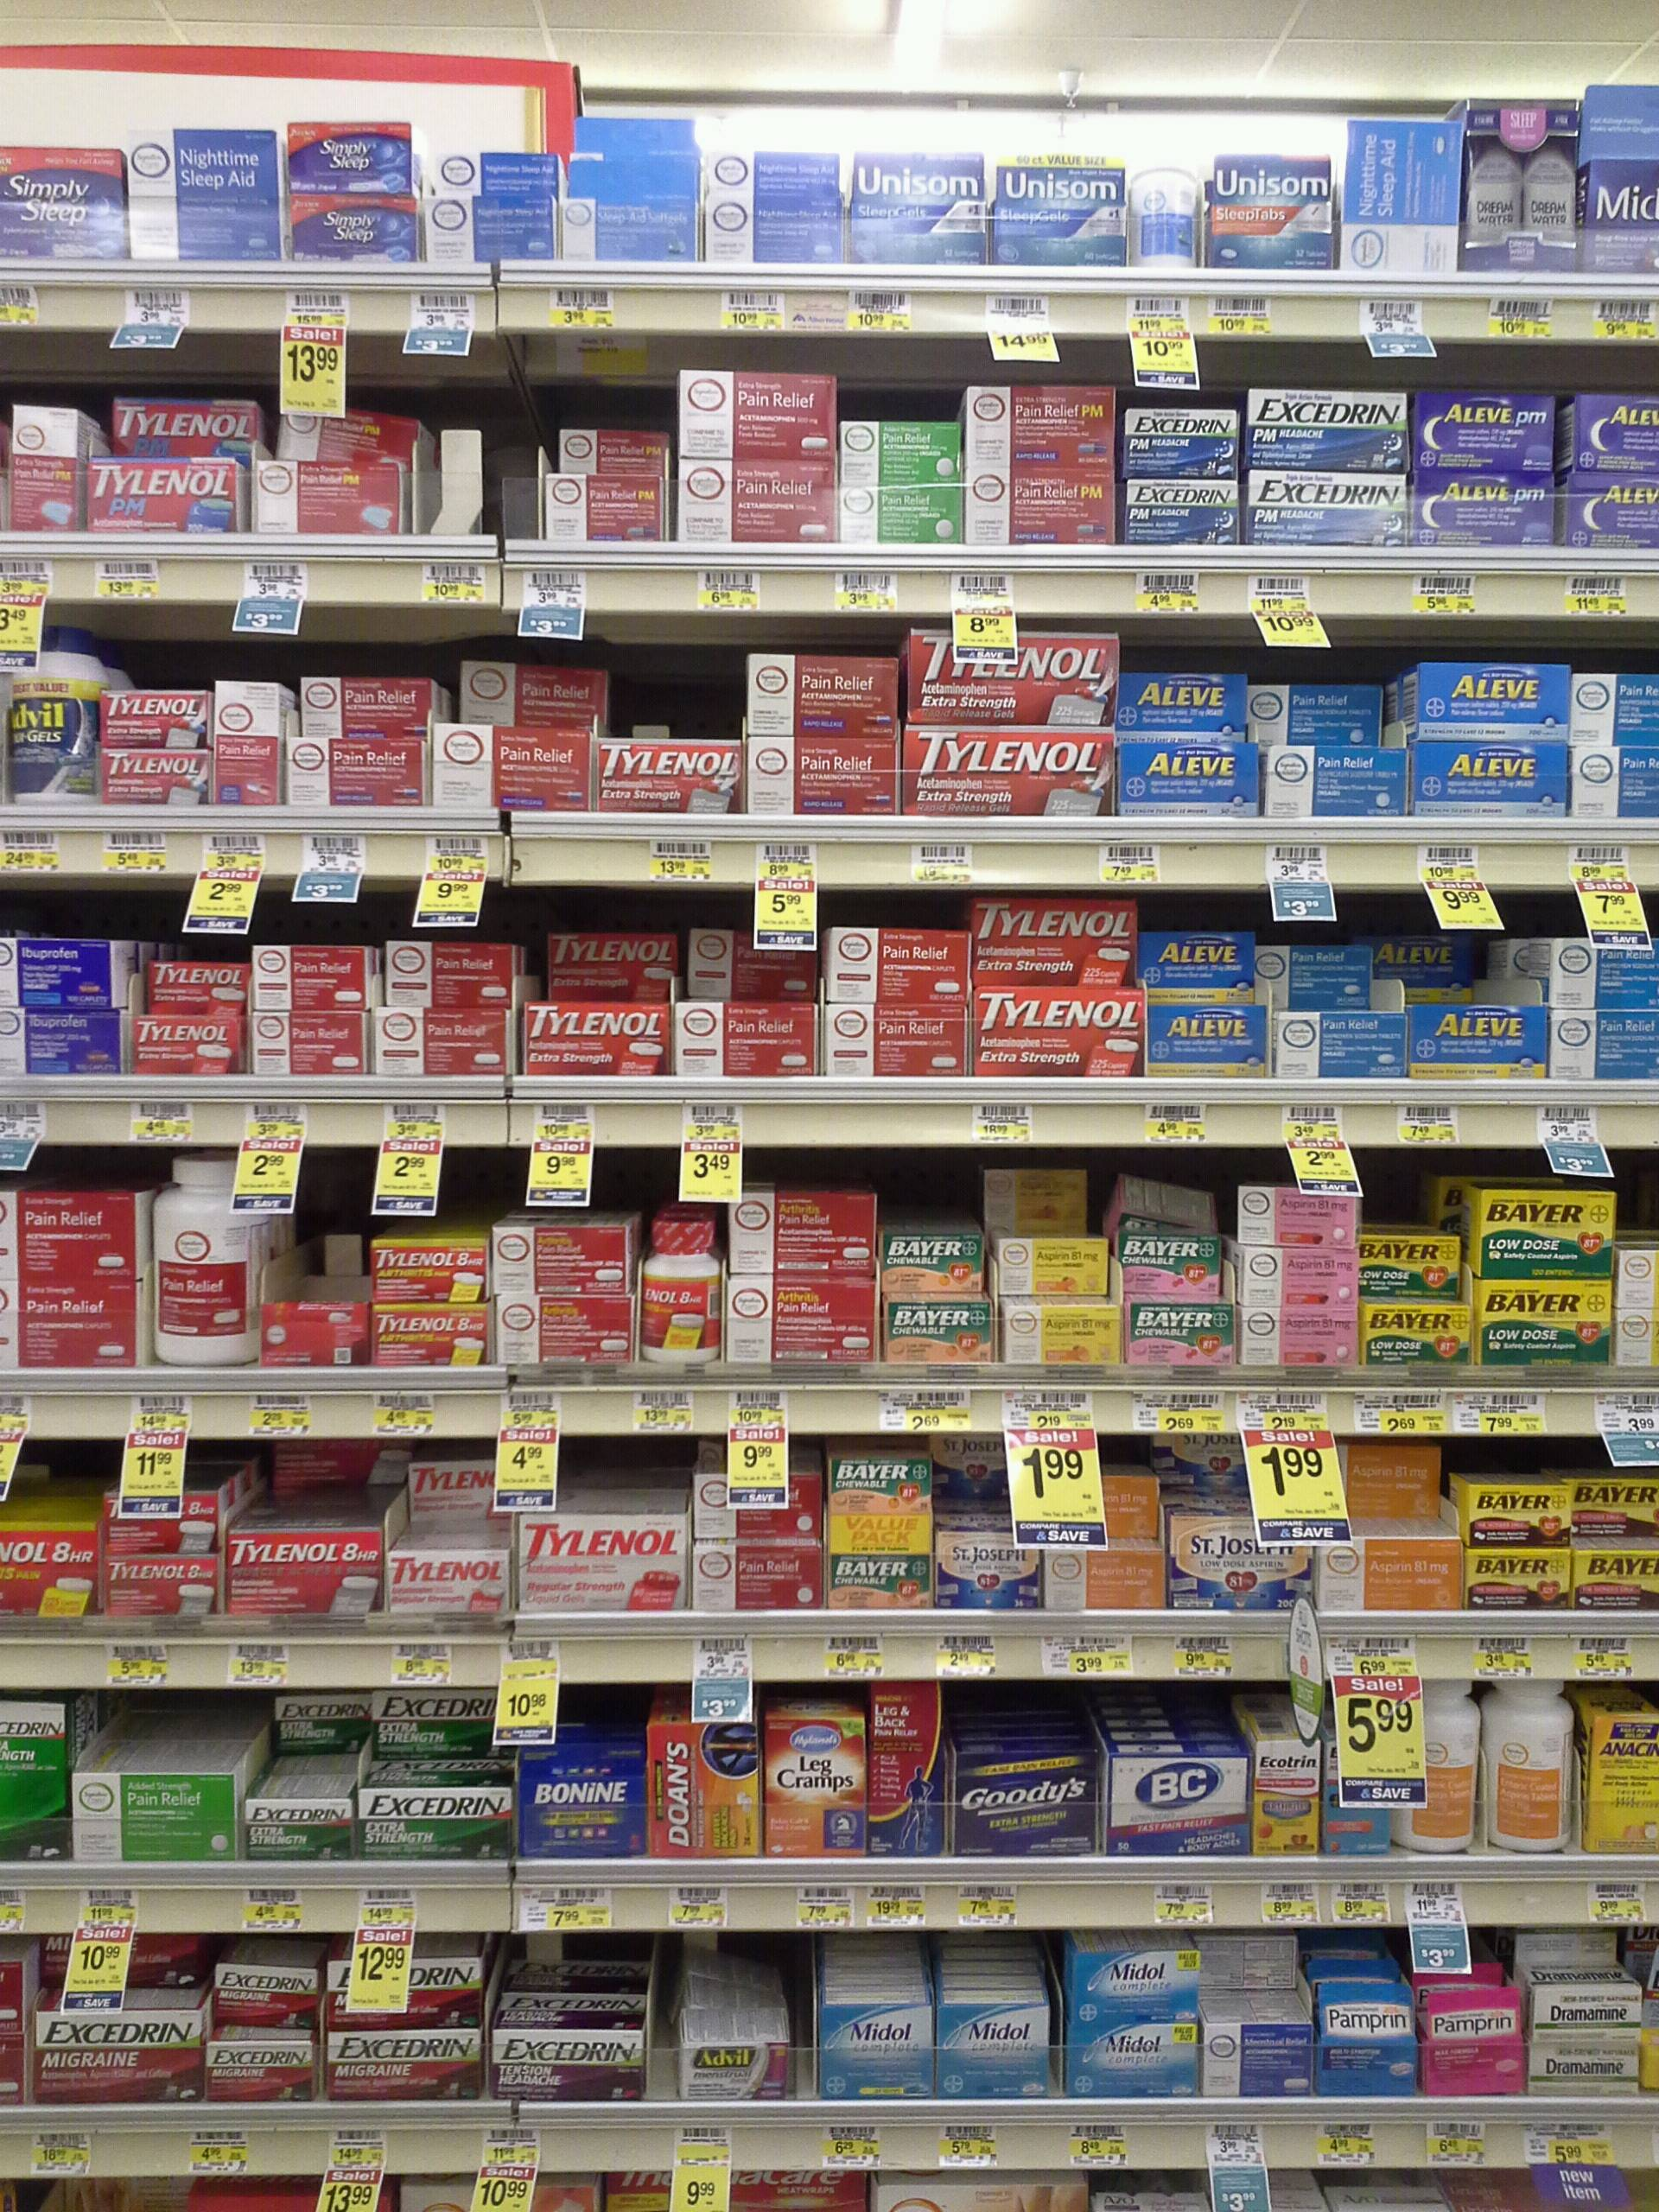product: (148, 1151, 254, 1366), (1459, 99, 1582, 275), (904, 629, 1115, 728), (129, 124, 279, 260), (71, 1740, 242, 1857), (1344, 118, 1457, 273), (904, 732, 1119, 813), (647, 1705, 760, 1857), (1103, 1743, 1251, 1855), (40, 2000, 202, 2101), (497, 1994, 648, 2102), (7, 629, 98, 801), (762, 1709, 868, 1855), (1485, 1677, 1572, 1855), (955, 1743, 1098, 1851), (355, 1757, 511, 1855), (1392, 1679, 1481, 1848), (974, 989, 1145, 1076), (519, 1517, 687, 1606), (1582, 82, 1659, 275), (223, 1524, 383, 1616), (993, 152, 1124, 265), (519, 1742, 647, 1855), (850, 153, 988, 258), (1169, 1508, 1312, 1608), (0, 148, 127, 260), (434, 726, 598, 812), (676, 456, 838, 542), (976, 902, 1138, 988), (1244, 388, 1408, 472), (676, 371, 836, 456), (1209, 155, 1333, 265), (326, 1937, 476, 2027), (1466, 1188, 1615, 1277), (725, 1282, 875, 1371), (563, 164, 695, 263), (868, 1683, 943, 1857), (732, 1191, 875, 1282), (932, 1993, 1053, 2099), (965, 387, 1114, 472), (1575, 1705, 1659, 1855), (819, 1989, 934, 2097), (1521, 1937, 1643, 2038), (748, 651, 897, 733), (0, 1195, 145, 1278), (0, 1284, 143, 1367), (85, 460, 244, 535), (1422, 1984, 1527, 2097), (1415, 662, 1568, 738), (253, 462, 408, 536), (1316, 1982, 1415, 2099), (1408, 469, 1558, 545), (1417, 742, 1570, 817), (819, 1005, 972, 1080), (0, 1494, 94, 1616), (751, 737, 897, 815), (0, 1698, 71, 1858), (1251, 472, 1408, 543), (645, 1217, 721, 1362), (674, 1001, 819, 1078), (1478, 1282, 1615, 1362), (965, 472, 1115, 545), (1413, 390, 1553, 469), (823, 928, 967, 1003), (681, 2008, 795, 2102), (1122, 737, 1258, 815), (1412, 1007, 1549, 1082), (1065, 2020, 1199, 2097), (1317, 1540, 1460, 1611), (599, 740, 746, 810), (329, 2029, 474, 2099), (525, 1001, 673, 1069), (1066, 1944, 1197, 2020), (491, 1224, 631, 1294), (462, 660, 608, 726), (829, 1515, 936, 1606), (366, 1007, 511, 1073), (366, 1691, 514, 1756), (1319, 1446, 1443, 1522), (690, 928, 819, 1001), (108, 397, 253, 462), (0, 937, 132, 1007), (10, 402, 84, 528), (1204, 2013, 1314, 2097), (281, 740, 425, 803), (281, 124, 413, 192), (1255, 1716, 1321, 1851), (701, 197, 843, 260), (1267, 749, 1410, 812), (281, 193, 418, 258), (1148, 1007, 1272, 1078), (692, 1540, 824, 1606), (497, 1298, 640, 1359), (275, 402, 422, 462), (37, 1937, 202, 1989), (213, 1939, 312, 2026), (382, 942, 516, 1007), (0, 1010, 129, 1076), (1326, 1716, 1389, 1851), (366, 1238, 493, 1305), (549, 934, 676, 1000), (939, 1529, 1044, 1609), (1276, 1014, 1406, 1076), (249, 948, 380, 1010), (1246, 685, 1384, 744), (249, 1777, 357, 1851), (1147, 930, 1255, 1005), (1236, 1184, 1358, 1251), (293, 678, 429, 737), (214, 685, 282, 803), (692, 1472, 819, 1534), (423, 197, 554, 258), (200, 2029, 308, 2102), (544, 474, 660, 540), (1127, 474, 1237, 543), (1553, 937, 1659, 1008), (387, 1547, 507, 1609), (1565, 469, 1659, 549), (882, 1294, 990, 1364), (1551, 1008, 1659, 1078), (1373, 937, 1483, 1005), (840, 421, 962, 482), (101, 1557, 223, 1618), (1122, 1305, 1241, 1367), (1119, 671, 1244, 730), (1124, 409, 1239, 474), (1044, 1472, 1159, 1536), (1051, 1543, 1162, 1609), (369, 1306, 493, 1366), (838, 486, 965, 543), (997, 1306, 1119, 1366), (103, 1493, 218, 1555), (1159, 1432, 1283, 1489), (261, 1298, 366, 1366), (1129, 165, 1197, 266), (1256, 948, 1375, 1005), (1244, 1308, 1356, 1369), (563, 113, 697, 164), (1241, 1251, 1361, 1306), (1464, 1482, 1572, 1543), (1368, 1305, 1476, 1366), (1469, 1548, 1570, 1613), (253, 1015, 366, 1073), (1570, 395, 1659, 469), (931, 1432, 1021, 1503), (99, 690, 209, 747), (136, 1015, 242, 1075), (1103, 1177, 1223, 1230), (702, 148, 840, 193), (425, 150, 558, 197), (1119, 1238, 1227, 1296), (1572, 676, 1659, 745), (1366, 1238, 1464, 1299), (408, 1467, 514, 1522), (1530, 2040, 1643, 2092), (1199, 1932, 1302, 1989), (880, 1238, 988, 1292), (103, 749, 211, 803), (1575, 1548, 1659, 1618), (272, 1442, 404, 1486), (1000, 1238, 1105, 1292), (146, 960, 247, 1015), (981, 1169, 1091, 1219), (1575, 749, 1659, 813), (833, 1461, 931, 1514), (1572, 1480, 1657, 1536), (563, 432, 669, 474)
